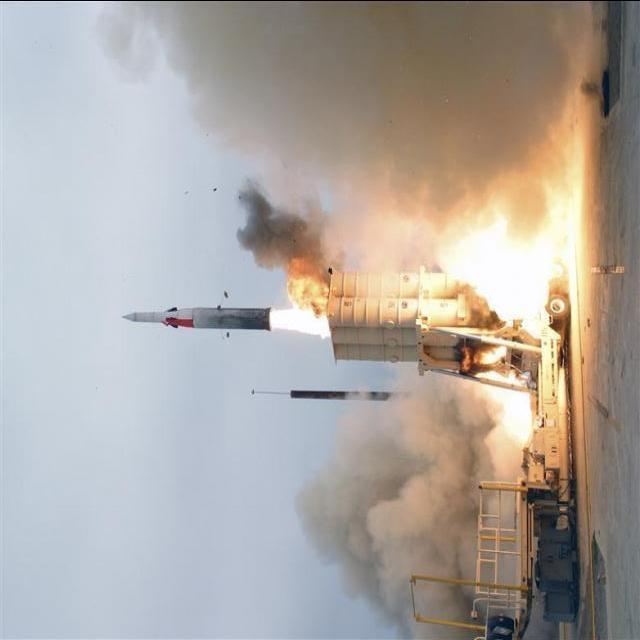missile: (126, 303, 272, 333)
